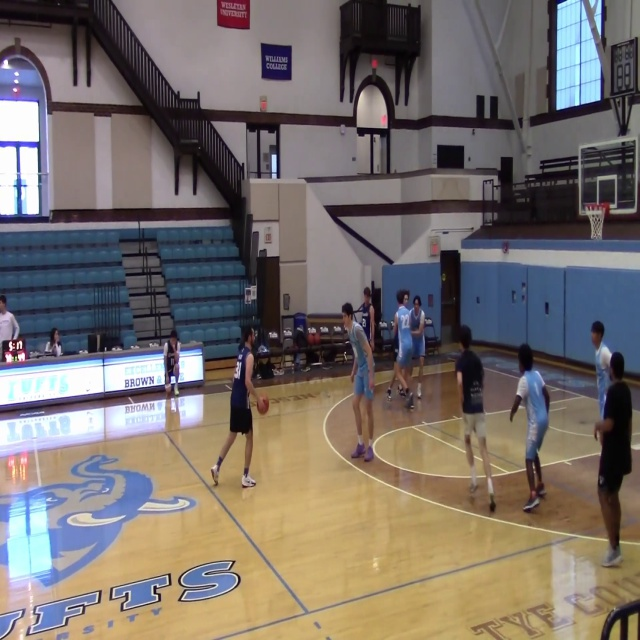Basketball: (257, 397, 269, 414)
